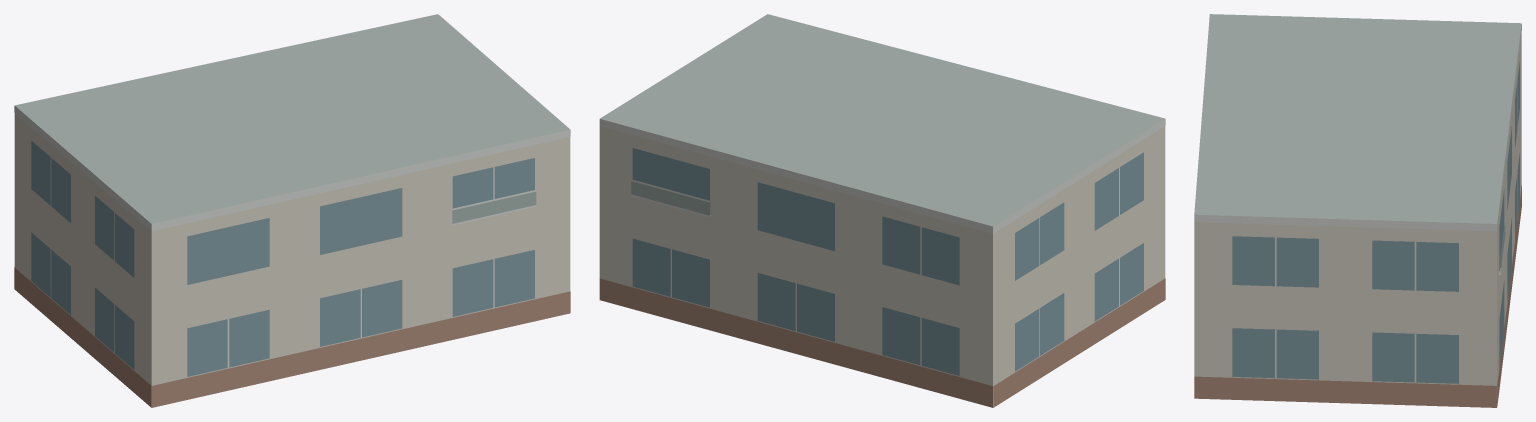
The model's file is survey-upis-32472685.glb.
3 renders of one model, left to right at view 1: azimuth 30°, elevation 25°; view 2: azimuth 150°, elevation 25°; view 3: azimuth 270°, elevation 25°, orthographic.
Parts seen in each view (by area): view 1: survey-upis-32472685.tmp; view 2: survey-upis-32472685.tmp; view 3: survey-upis-32472685.tmp.
Boxes of the visible parts, bbox=[...] form: survey-upis-32472685.tmp: bbox=[14, 14, 570, 407]; survey-upis-32472685.tmp: bbox=[599, 14, 1165, 407]; survey-upis-32472685.tmp: bbox=[1194, 14, 1521, 407].
Bounding box in the file's own units: 14.95 × 6.1 × 9.86.
